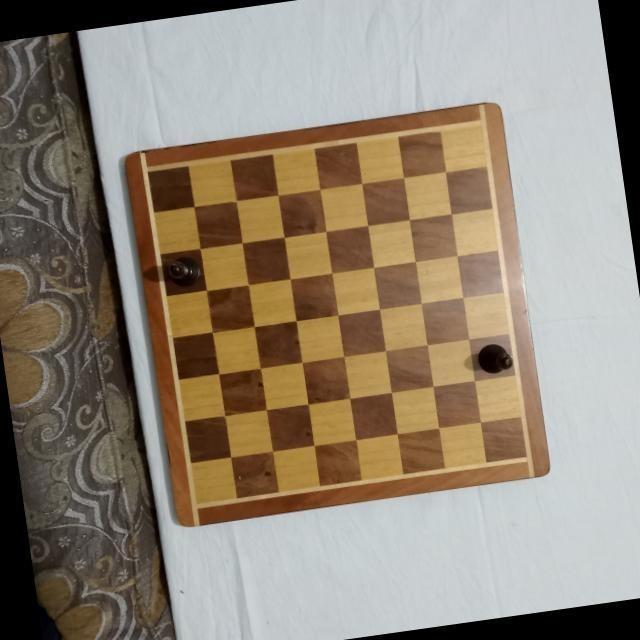black-bishop: (474, 339, 514, 376), (163, 254, 202, 290)
